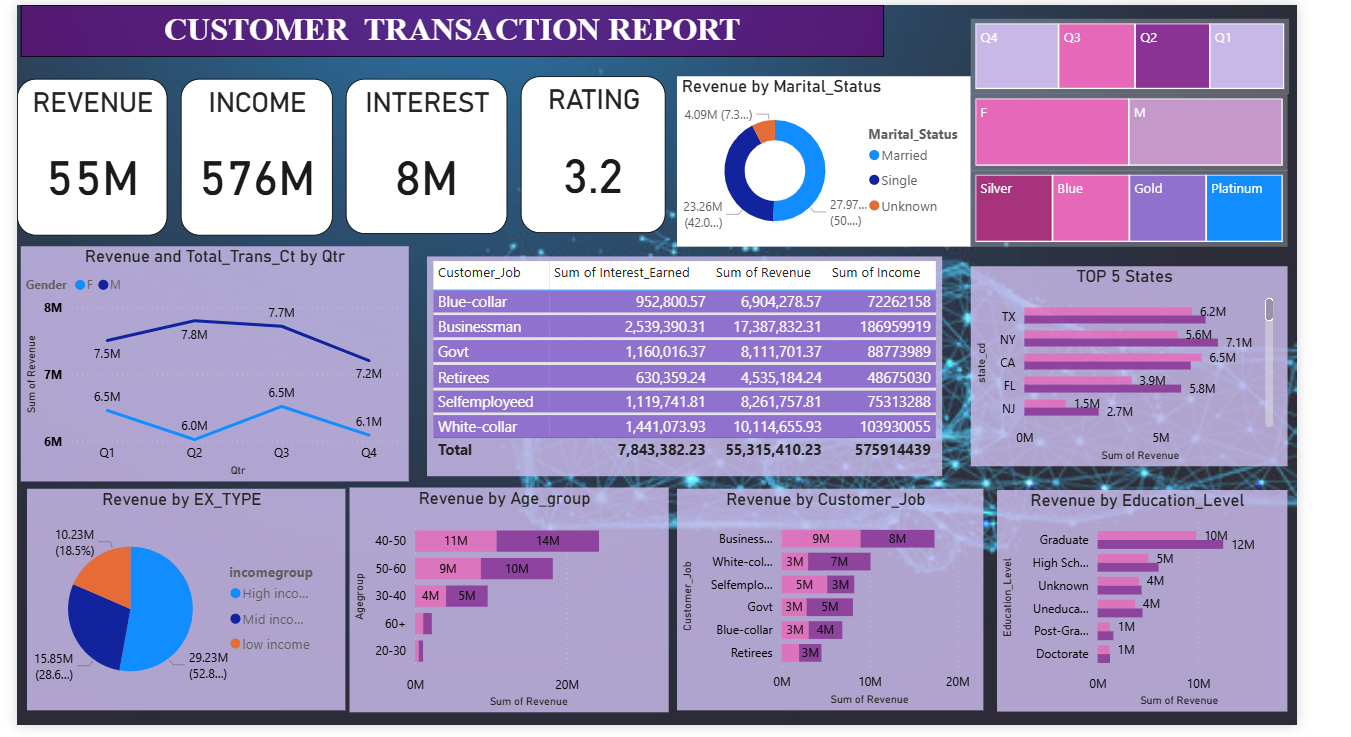

This screenshot's page, from the dashboard's own definition file:
{"tool":"powerbi","page":{"name":"CUSTOMER TRANSACTION REPORT","canvas":[1280,720],"ordinal":1},"visuals":[{"type":"textbox","box":[3.3,0,863.3,51.7],"z":0},{"type":"lineChart","title":" Revenue and  Total_Trans_Ct by Qtr","fields":{"Category":["ccd cc_details.Qtr"],"Y":["Sum(ccd cc_details.Revenue)"],"Series":["ccd customerd.Gender"]},"box":[3.3,241.7,388.3,235],"z":1000},{"type":"barChart","title":"Revenue by Age_group","fields":{"Category":["ccd customerd.Agegroup"],"Y":["Sum(ccd cc_details.Revenue)"],"Series":["ccd customerd.Gender"]},"box":[332.1,483,319,225],"z":2000},{"type":"clusteredBarChart","title":"Revenue by Education_Level","fields":{"Y":["Sum(ccd cc_details.Revenue)"],"Category":["ccd customerd.Education_Level"],"Series":["ccd customerd.Gender"]},"box":[980,485,290,221.7],"z":3000},{"type":"barChart","title":"Revenue by Customer_Job","fields":{"Category":["ccd customerd.Customer_Job"],"Y":["Sum(ccd cc_details.Revenue)"],"Series":["ccd customerd.Gender"]},"box":[660,483.3,306.7,221.7],"z":4000},{"type":"pieChart","title":" Revenue by EX_TYPE","fields":{"Category":["ccd customerd.incomegroup"],"Y":["Sum(ccd cc_details.Revenue)"]},"box":[10,483.3,318.3,221.7],"z":5000},{"type":"clusteredBarChart","title":"TOP 5 States","fields":{"Category":["ccd customerd.state_cd"],"Y":["Sum(ccd cc_details.Revenue)"],"Series":["ccd customerd.Gender"]},"box":[953.3,261.7,316.7,200],"z":6000},{"type":"tableEx","fields":{"Values":["ccd customerd.Customer_Job","Sum(ccd cc_details.Interest_Earned)","Sum(ccd cc_details.Revenue)","Sum(ccd customerd.Income)"]},"box":[410,251.7,515,220],"z":7000},{"type":"card","title":"REVENUE","fields":{"Values":["Sum(ccd cc_details.Revenue)"]},"box":[0,73.3,150,156.7],"z":8000},{"type":"card","title":"INCOME","fields":{"Values":["Sum(ccd customerd.Income)"]},"box":[163.3,73.3,151.7,156.7],"z":9000},{"type":"card","title":"INTEREST","fields":{"Values":["Sum(ccd cc_details.Interest_Earned)"]},"box":[328.3,73.3,161.7,155],"z":10000},{"type":"card","title":"RATING","fields":{"Values":["Avg(ccd customerd.Cust_Satisfaction_Score)"]},"box":[503.3,71.7,145,156.7],"z":11000},{"type":"treemap","fields":{"Group":["ccd cc_details.Qtr"],"Values":["Avg(ccd cc_details.Client_Num)"]},"box":[953.3,13.3,318.3,75],"z":12000},{"type":"treemap","fields":{"Values":["Avg(ccd cc_details.Client_Num)"],"Group":["ccd customerd.Gender"]},"box":[953.3,88.3,316.7,76.7],"z":13000},{"type":"treemap","fields":{"Values":["Avg(ccd cc_details.Client_Num)"],"Group":["ccd cc_details.Card_Category","ccd customerd.Gender"]},"box":[953.3,165,316.7,76.7],"z":14000},{"type":"donutChart","title":"Revenue by Marital_Status","fields":{"Category":["ccd customerd.Marital_Status"],"Y":["Sum(ccd cc_details.Revenue)"]},"box":[660,71.7,293.3,170],"z":15000}]}

Visuals, with their boxes on the page's 1280x720 design canvas (x1, y1, x2, y2). These are canvas units, not pixel positions in the 1351x737 screenshot, which may show the page scaled, cropped or inside an application window:
textbox: (3,0,867,52)
" Revenue and  Total_Trans_Ct by Qtr" lineChart: (3,242,392,477)
"Revenue by Age_group" barChart: (332,483,651,708)
"Revenue by Education_Level" clusteredBarChart: (980,485,1270,707)
"Revenue by Customer_Job" barChart: (660,483,967,705)
" Revenue by EX_TYPE" pieChart: (10,483,328,705)
"TOP 5 States" clusteredBarChart: (953,262,1270,462)
tableEx - ccd customerd.Customer_Job x Sum(ccd cc_details.Interest_Earned): (410,252,925,472)
"REVENUE" card: (0,73,150,230)
"INCOME" card: (163,73,315,230)
"INTEREST" card: (328,73,490,228)
"RATING" card: (503,72,648,228)
treemap - ccd cc_details.Qtr x Avg(ccd cc_details.Client_Num): (953,13,1272,88)
treemap - Avg(ccd cc_details.Client_Num) x ccd customerd.Gender: (953,88,1270,165)
treemap - Avg(ccd cc_details.Client_Num) x ccd cc_details.Card_Category: (953,165,1270,242)
"Revenue by Marital_Status" donutChart: (660,72,953,242)
